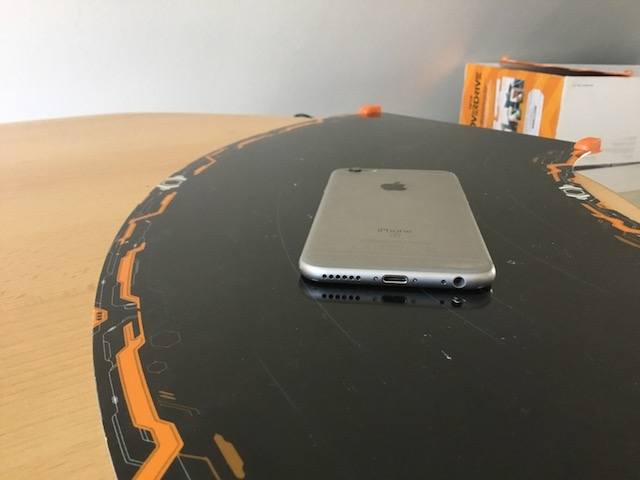phone: (293, 163, 499, 295)
